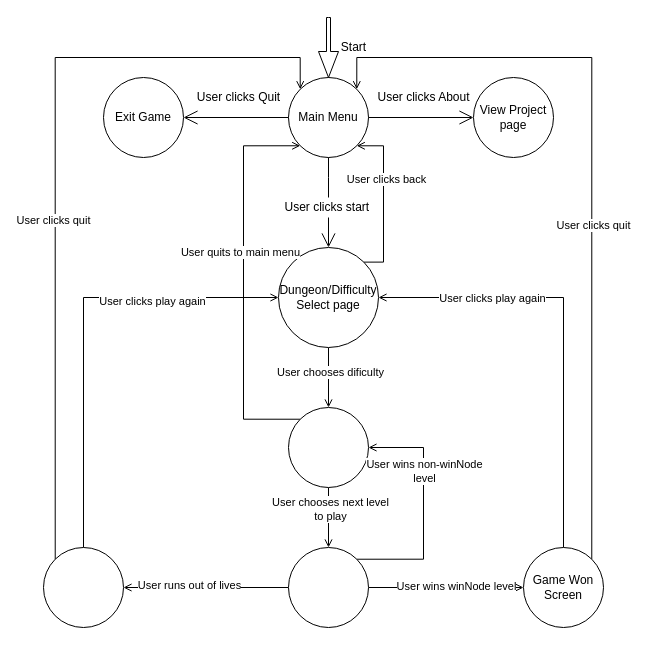
The diagram is 648 pixels wide and 645 high, and some of its shapes have lost their labels. The box of each missing label's shape, as (x1, y1, x2, y2) in pixels:
Boss Encounter: (288, 546, 368, 628)
Game Over Screen: (42, 546, 124, 628)
Map of Levels: (288, 406, 368, 488)
